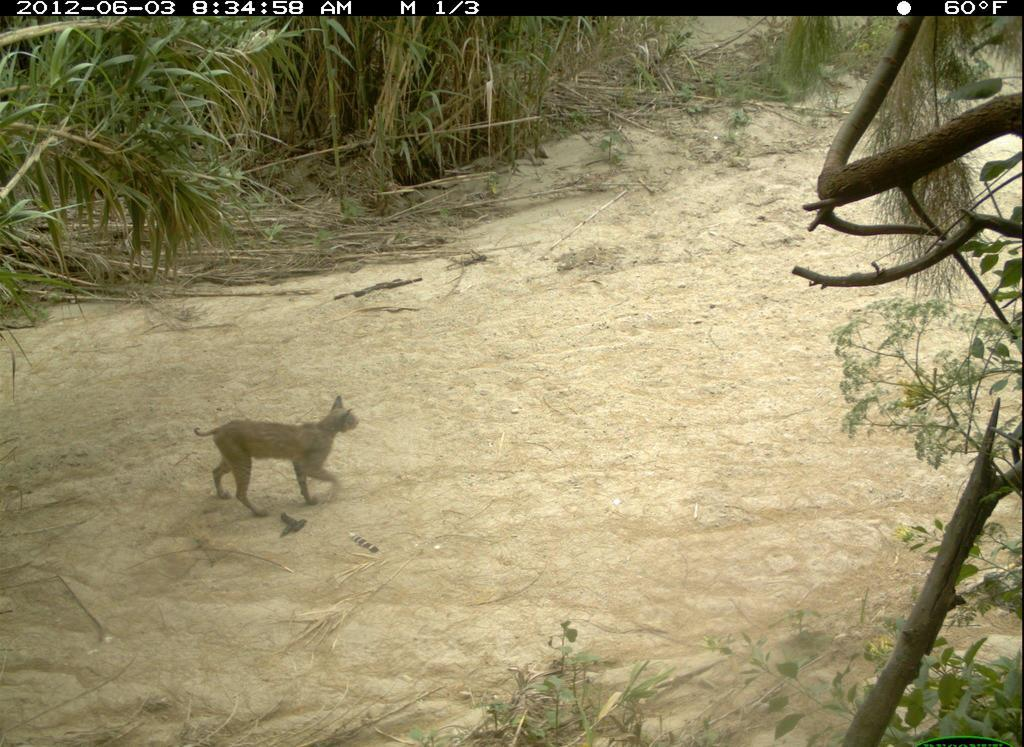bobcat: (187, 388, 367, 515)
